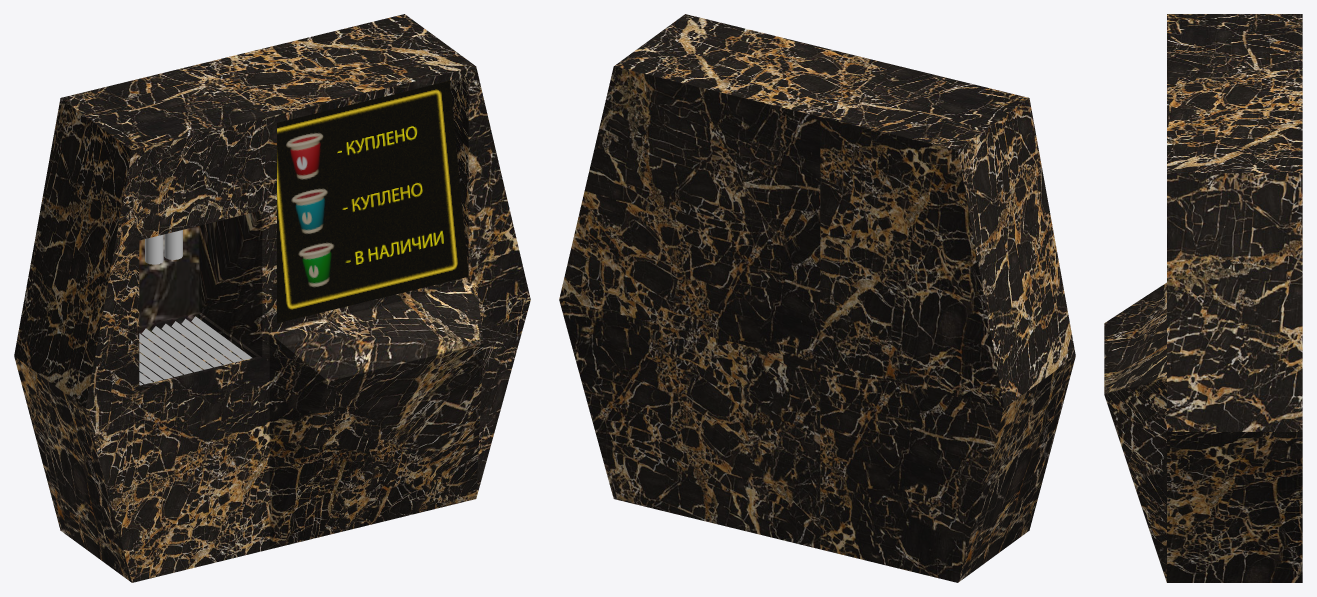
The model's file is coffe.fbx.
3 views of the same model, side by side, from view 1: azimuth 30°, elevation 25°; view 2: azimuth 150°, elevation 25°; view 3: azimuth 270°, elevation 25° (orthographic). The views are drawn at different scales.
Visible parts, largest first — view 1: Cube, Cylinder; view 2: Cube; view 3: Cube.
Boxes of the visible parts, box(x1,y1,x2,y2) form: Cube: box(14, 14, 530, 582); Cylinder: box(139, 316, 251, 385); Cube: box(559, 14, 1075, 582); Cube: box(1104, 14, 1302, 582).
Size of the model in its own units: 2.15 by 2 by 0.8766.
Materials: 2 (2 with a texture image).
